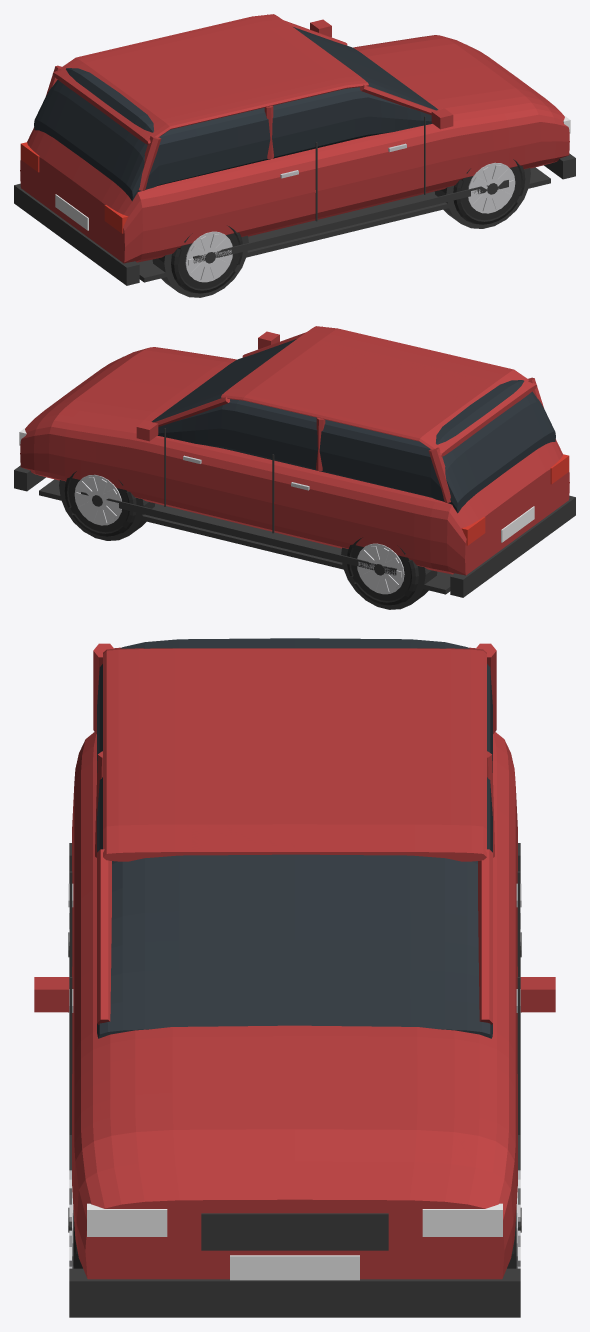
Rendered from SM_Car_Hatch.fbx.
3 renders of one model, top to bottom at view 1: azimuth 30°, elevation 25°; view 2: azimuth 150°, elevation 25°; view 3: azimuth 270°, elevation 25°, orthographic. The views are drawn at different scales.
Parts seen in each view (by area): view 1: SM_Car_Hatch; view 2: SM_Car_Hatch; view 3: SM_Car_Hatch.
Part boxes in pixels (bbox=[...]): SM_Car_Hatch: bbox=[14, 14, 575, 297]; SM_Car_Hatch: bbox=[14, 326, 575, 609]; SM_Car_Hatch: bbox=[34, 638, 555, 1317].
Size of the model in its own units: 2.08 by 4.14 by 1.54.
